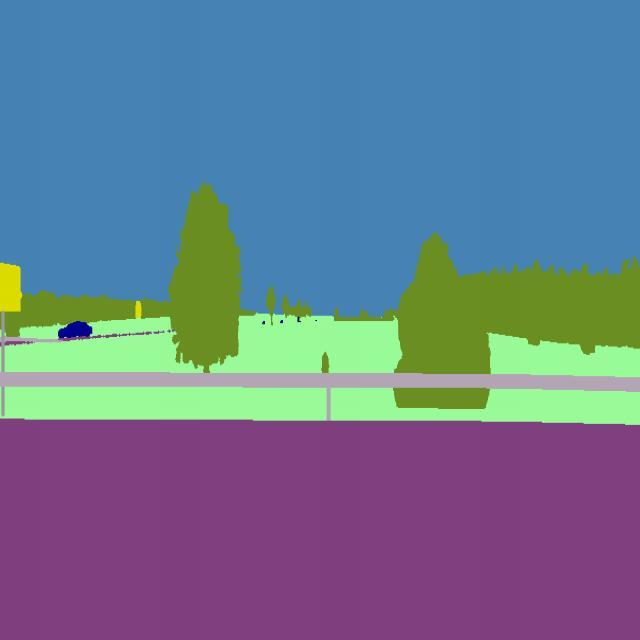safe: (54, 318, 95, 342)
